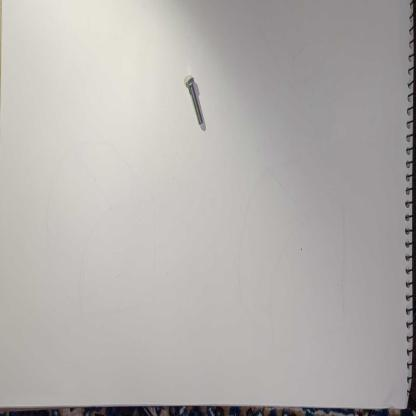Bolts: (183, 71, 208, 133)
